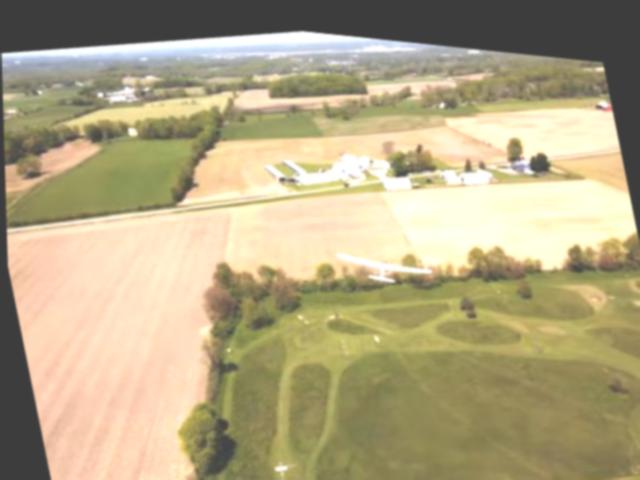uav: (329, 217, 440, 303)
